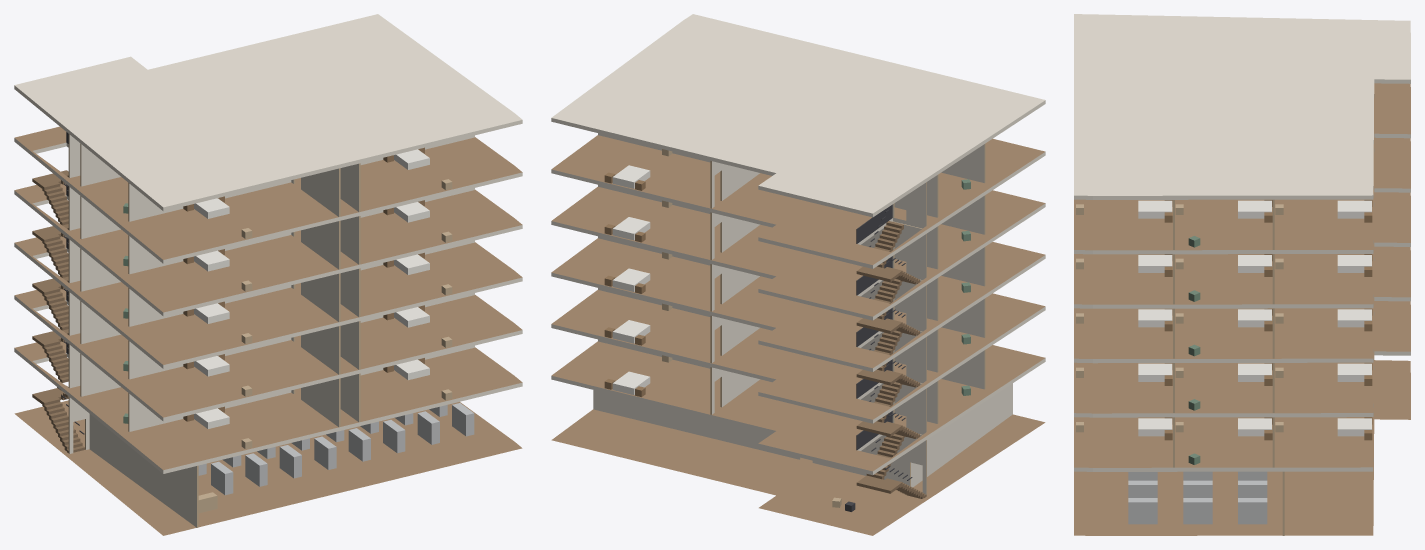
File: interior.glb
The picture shows the model from 3 angles, left to right: view 1: azimuth 30°, elevation 25°; view 2: azimuth 150°, elevation 25°; view 3: azimuth 270°, elevation 25°; orthographic projection. The views are drawn at different scales.
Visible parts, largest first — view 1: slabs, partitions, coarse-s0, stair, coarse-s1, coarse-s4, coarse-s5, coarse-s3, coarse-s2; view 2: slabs, partitions, stair, coarse-s5, coarse-s3, coarse-s1, coarse-s2, coarse-s4; view 3: slabs, coarse-s0, coarse-s1, coarse-s3, coarse-s5, coarse-s2, coarse-s4, partitions.
Boxes of the visible parts, <box> form: slabs: <box>14,14,522,535</box>; partitions: <box>68,134,474,527</box>; coarse-s0: <box>198,403,474,513</box>; stair: <box>32,132,84,452</box>; coarse-s1: <box>123,358,452,449</box>; coarse-s4: <box>123,200,452,291</box>; coarse-s5: <box>123,147,452,238</box>; coarse-s3: <box>123,252,452,344</box>; coarse-s2: <box>123,305,452,396</box>; slabs: <box>551,14,1045,535</box>; partitions: <box>593,133,1012,495</box>; stair: <box>856,204,926,498</box>; coarse-s5: <box>604,149,970,190</box>; coarse-s3: <box>604,252,970,293</box>; coarse-s1: <box>604,355,970,397</box>; coarse-s2: <box>604,303,970,345</box>; coarse-s4: <box>604,200,970,242</box>; slabs: <box>1074,14,1410,535</box>; coarse-s0: <box>1128,471,1267,524</box>; coarse-s1: <box>1076,417,1372,464</box>; coarse-s3: <box>1076,308,1372,356</box>; coarse-s5: <box>1076,199,1372,247</box>; coarse-s2: <box>1076,362,1372,410</box>; coarse-s4: <box>1076,254,1372,301</box>; partitions: <box>1173,199,1284,535</box>.
Size of the model in its own units: 25.11 by 21.9 by 19.64.
